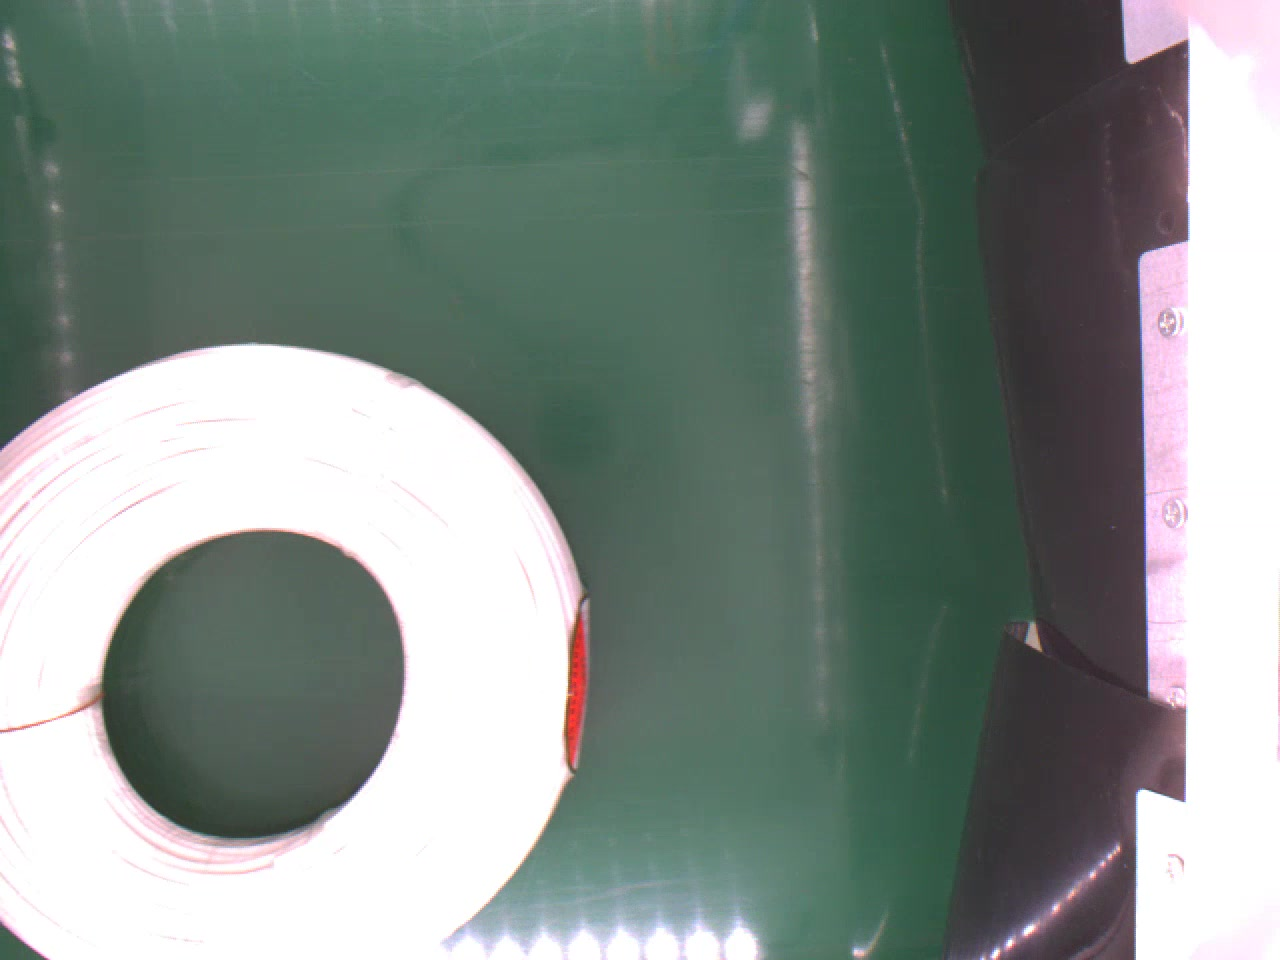white: (0, 342, 596, 960)
